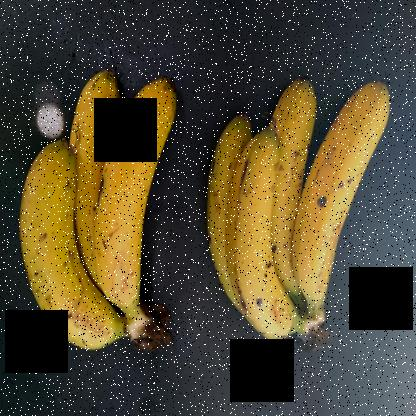ripe: (100, 60, 188, 336), (297, 80, 388, 322), (12, 142, 114, 354), (228, 121, 309, 336)
